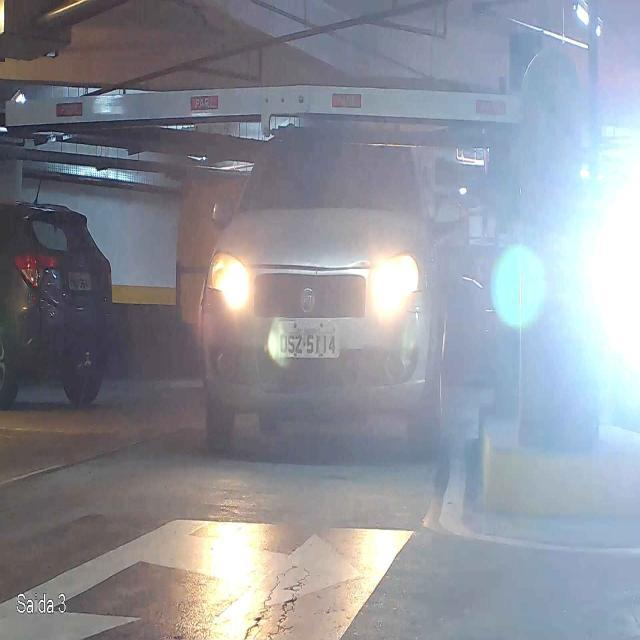old_plate: (274, 317, 340, 360)
